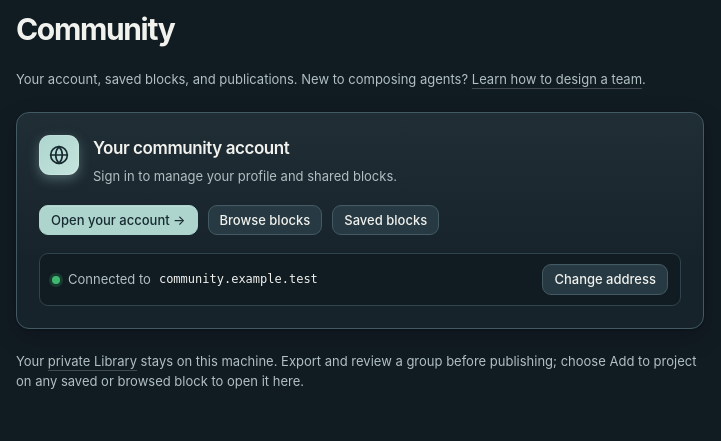
Test: once connected, shows the address and changes it only when asked
Expected: the text "community.example.test" is shown, [159,270,318,289]
Expected: the field labelled "Service address" is not shown
Click the button "Change address" at (605, 280), box [542,264,668,295]
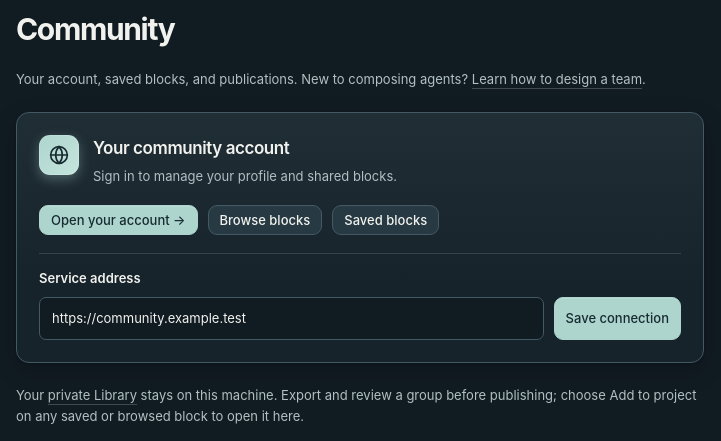
Expected: the field labelled "Service address" holds "https://community.example.test", [39,297,544,340]
